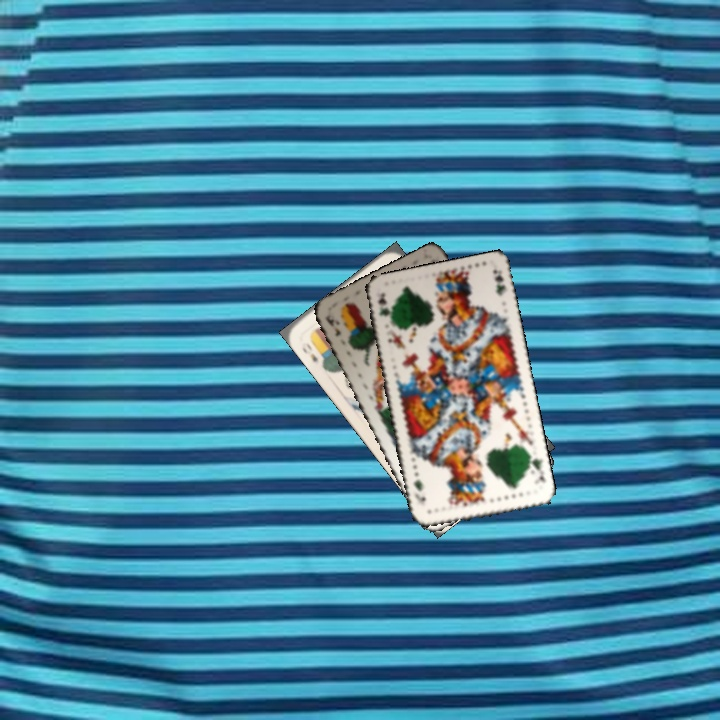EK: (321, 311, 344, 339)
EO: (298, 339, 322, 365)
GK: (525, 451, 548, 486), (374, 289, 392, 319)
